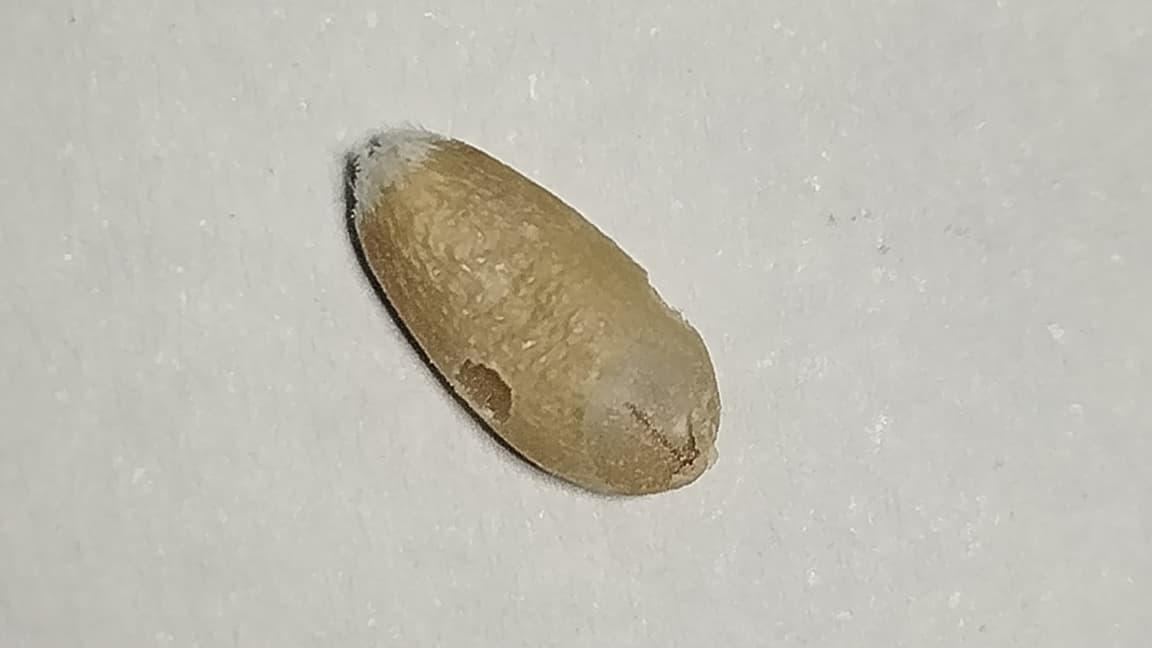damage: (352, 124, 719, 494)
insectdamage: (440, 265, 721, 493)
